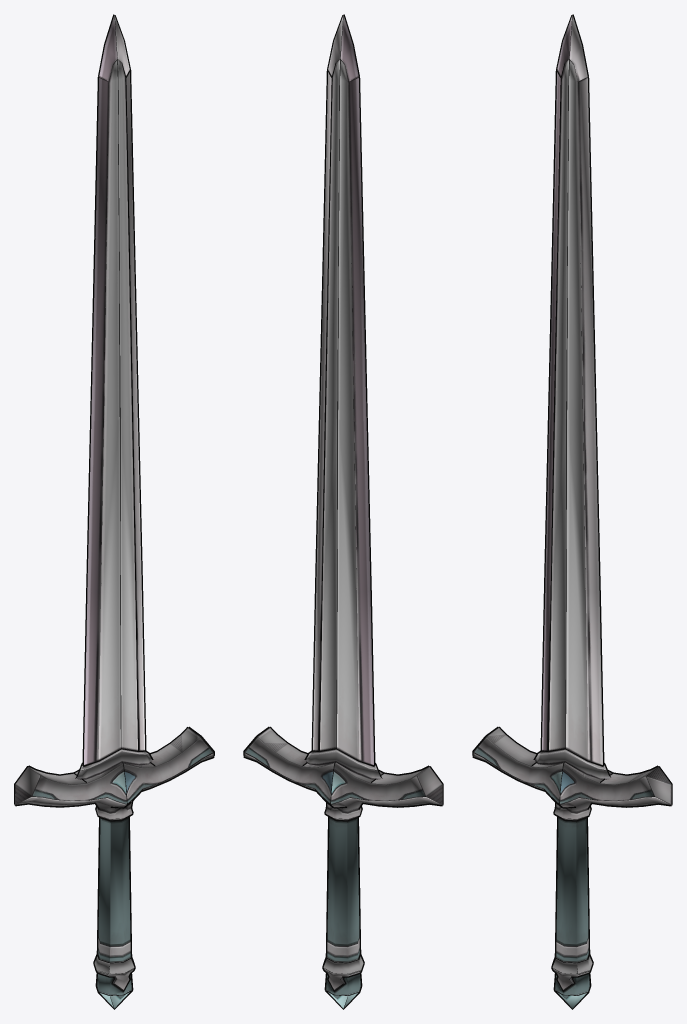
The model's file is Dull_bladel_mesh.glb.
3 renders of one model, left to right at view 1: azimuth 30°, elevation 25°; view 2: azimuth 150°, elevation 25°; view 3: azimuth 330°, elevation 25°, orthographic.
Parts seen in each view (by area): view 1: Dull Blade_mesh_Dull Blade_0, Dull Blade_mesh_Outline_0; view 2: Dull Blade_mesh_Dull Blade_0, Dull Blade_mesh_Outline_0; view 3: Dull Blade_mesh_Dull Blade_0, Dull Blade_mesh_Outline_0.
Boxes of the visible parts, x1,y1,x2,y2 form: Dull Blade_mesh_Dull Blade_0: (15,15,213,1008); Dull Blade_mesh_Outline_0: (14,14,214,1009); Dull Blade_mesh_Dull Blade_0: (244,15,442,1008); Dull Blade_mesh_Outline_0: (243,14,443,1009); Dull Blade_mesh_Dull Blade_0: (473,15,671,1008); Dull Blade_mesh_Outline_0: (472,14,672,1009).
Size of the model in its own units: 2.53 by 12.01 by 0.5819.
Materials: 2 (1 with a texture image).
